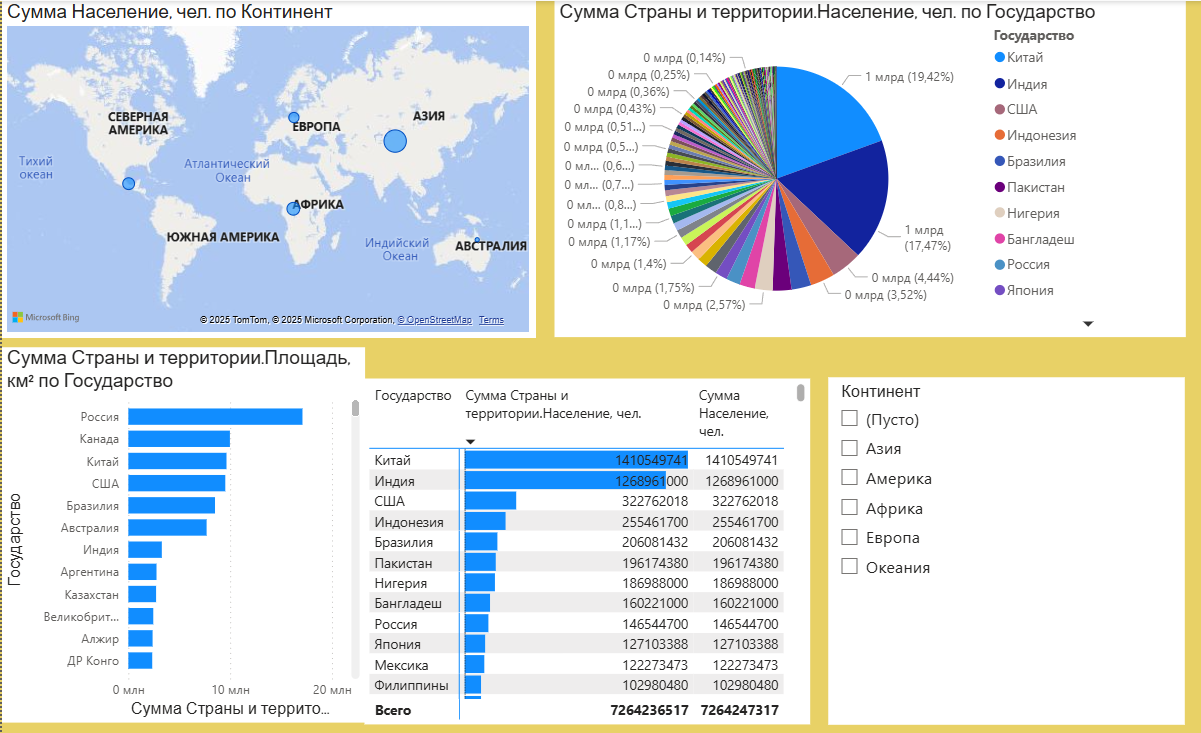

The dashboard page shown, as its layout file describes it:
{"tool":"powerbi","page":{"name":"По всем странам","canvas":[1280,720],"ordinal":0},"visuals":[{"type":"map","fields":{"Category":["Все страны и население.Континент"],"Size":["Sum(Страны и территории.Население, чел.)"]},"box":[0,0,521.2,328.8],"z":0},{"type":"barChart","fields":{"Category":["Все страны и население.Государство"],"Y":["Sum(Все страны и население.Страны и территории.Площадь, км²)"]},"box":[0,338.8,355,367.5],"z":1},{"type":"pieChart","fields":{"Category":["Все страны и население.Государство"],"Y":["Sum(Все страны и население.Страны и территории.Население, чел.)"]},"box":[540,0,617.5,328.8],"z":2},{"type":"pivotTable","fields":{"Rows":["Все страны и население.Государство"],"Values":["Sum(Все страны и население.Страны и территории.Население, чел.)","Sum(Страны и территории.Население, чел.)"]},"box":[355,368.8,436.2,338.8],"z":3},{"type":"slicer","fields":{"Values":["Все страны и население.Континент"]},"box":[808.8,367.5,348.8,340],"z":4}]}

Visuals, with their boxes on the page's 1280x720 design canvas (x1, y1, x2, y2). These are canvas units, not pixel positions in the 1201x733 screenshot, which may show the page scaled, cropped or inside an application window:
map - Все страны и население.Континент x Sum(Страны и территории.Население, чел.): [0, 0, 521, 329]
barChart - Все страны и население.Государство x Sum(Все страны и население.Страны и территории.Площадь, км²): [0, 339, 355, 706]
pieChart - Все страны и население.Государство x Sum(Все страны и население.Страны и территории.Население, чел.): [540, 0, 1158, 329]
pivotTable - Все страны и население.Государство x Sum(Все страны и население.Страны и территории.Население, чел.): [355, 369, 791, 708]
slicer - Все страны и население.Континент: [809, 368, 1158, 708]
